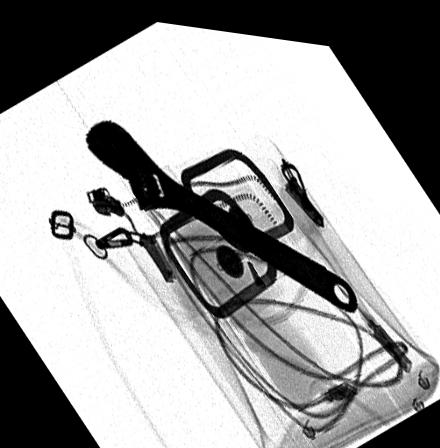Wrench: (83, 113, 357, 299)
